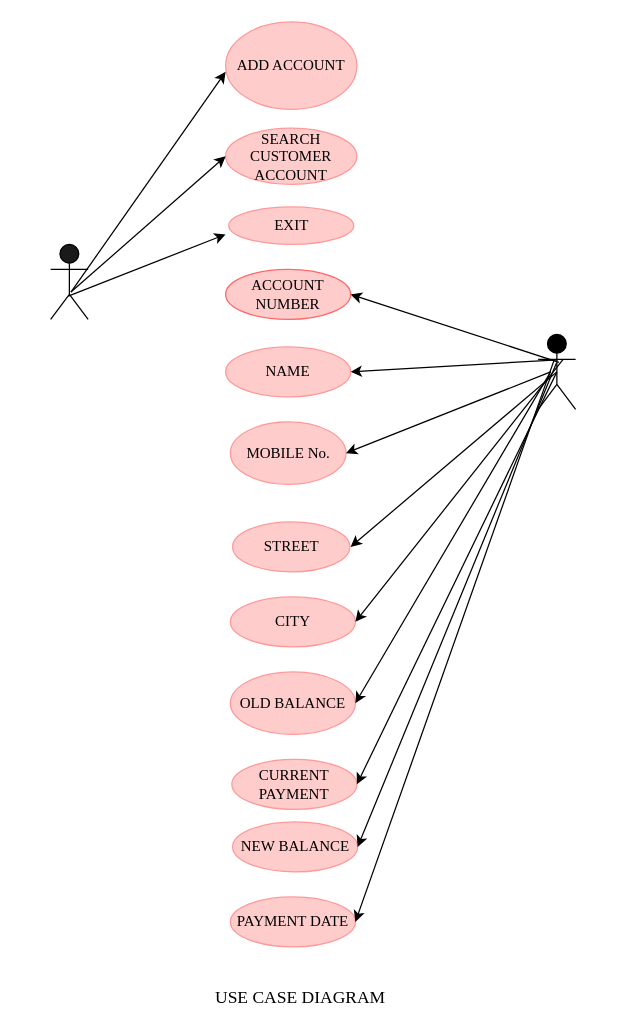
Image size: 620x1031. Some labels were removed from this diagram. The centre of each missing label's shape, as x and y in pixels:
CUSTOMER: [556,371]
SHOPKEEPER: [68,281]
